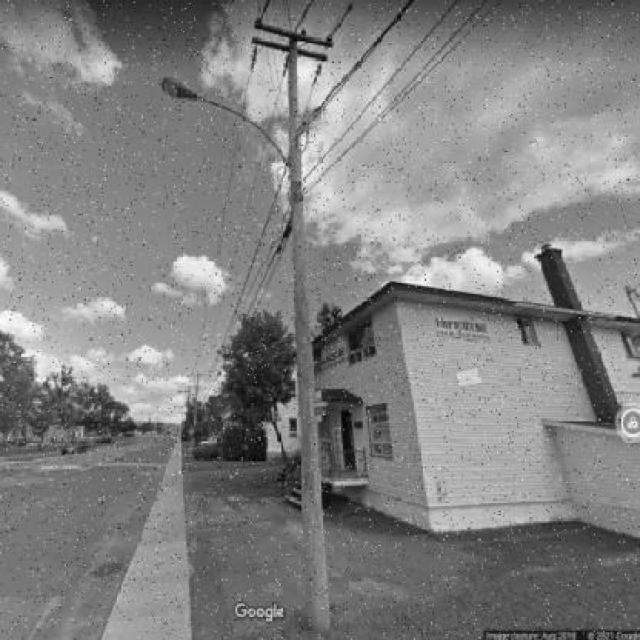light_pole: (162, 5, 404, 633)
